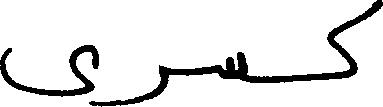X: (0, 40, 97, 106), (329, 0, 382, 83), (121, 60, 168, 106), (219, 47, 247, 86)
